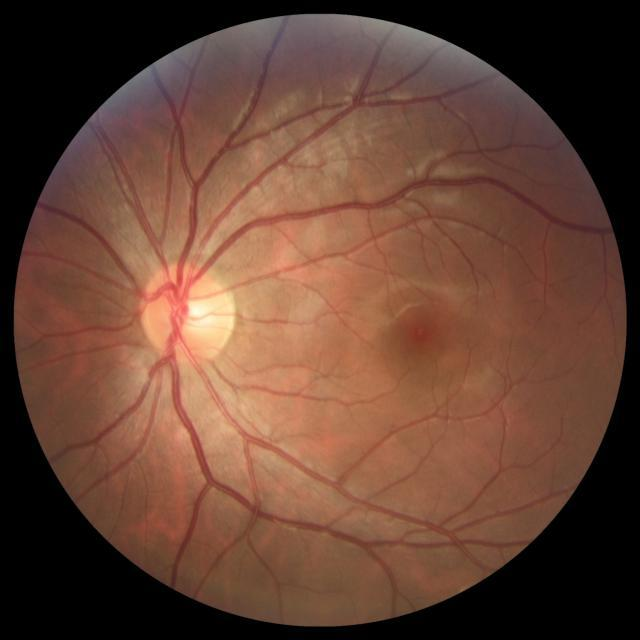OC: (172, 294, 210, 336)
OD: (140, 262, 234, 360)
